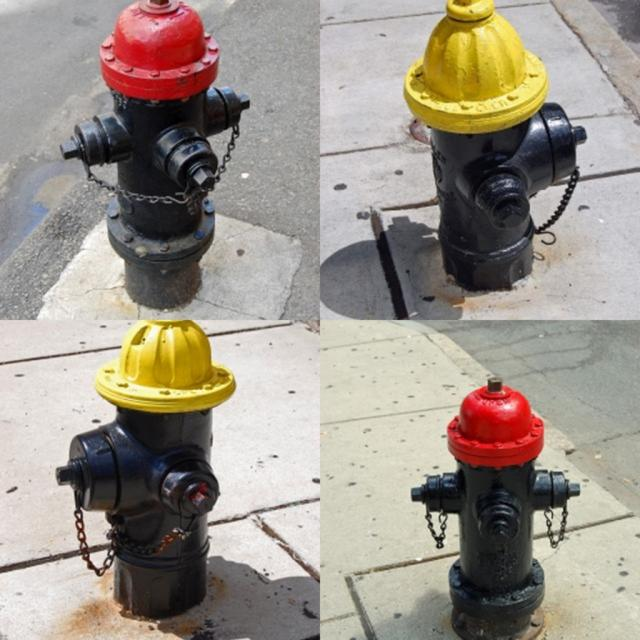fire_hydrant: (62, 0, 251, 311), (55, 325, 239, 617), (405, 3, 585, 288), (412, 382, 579, 639)
